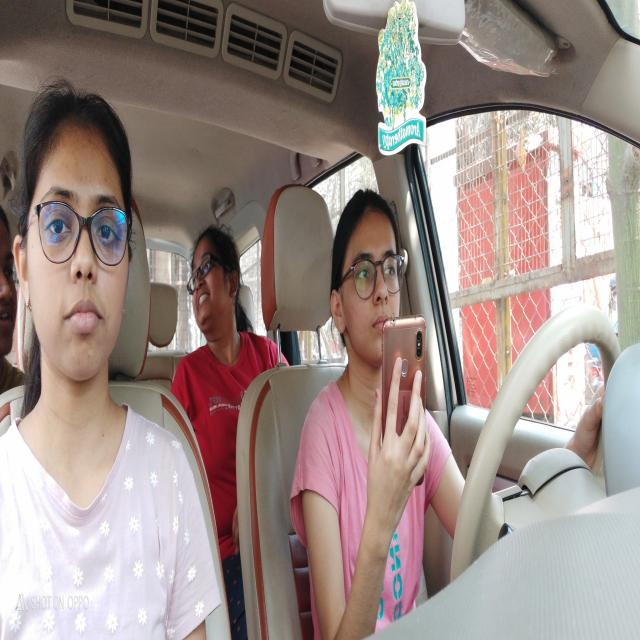mobile: (377, 306, 437, 509)
person: (16, 80, 138, 389), (327, 186, 403, 366), (187, 226, 240, 340), (0, 202, 21, 371)
